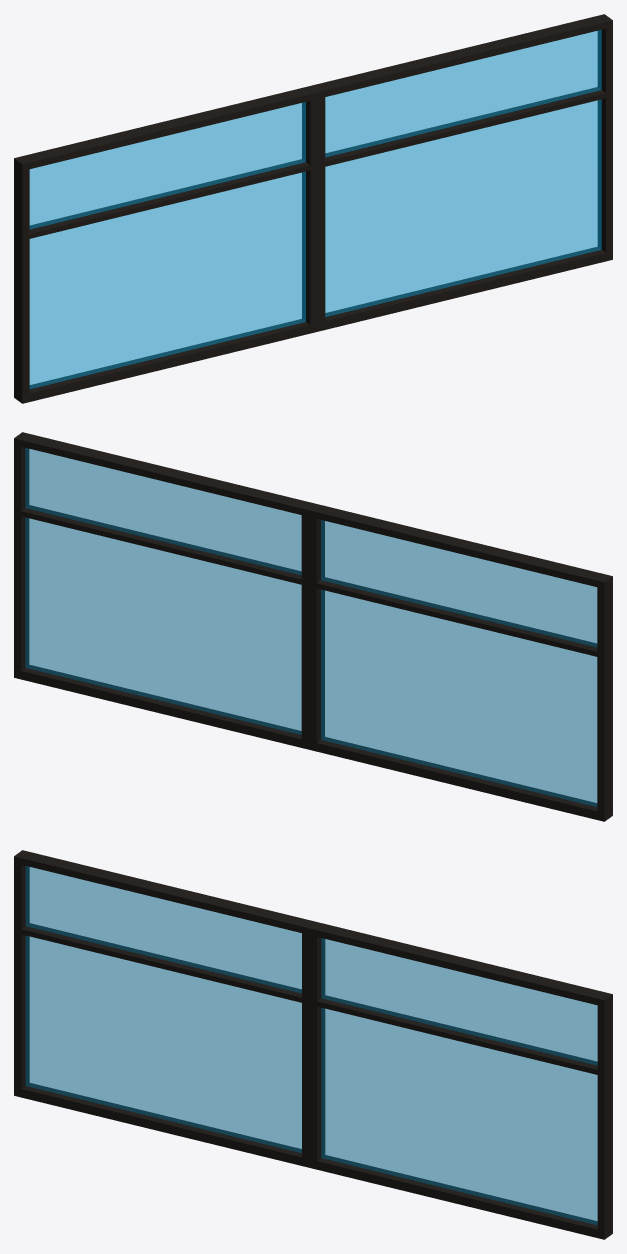
Rendered from ventanal2DeptoA.DAE.
3 renders of one model, top to bottom at view 1: azimuth 30°, elevation 25°; view 2: azimuth 150°, elevation 25°; view 3: azimuth 330°, elevation 25°, orthographic.
Parts seen in each view (by area): view 1: Ventanal2; view 2: Ventanal2; view 3: Ventanal2.
Boxes of the visible parts, bbox=[...] form: Ventanal2: bbox=[14, 14, 612, 403]; Ventanal2: bbox=[14, 432, 612, 821]; Ventanal2: bbox=[14, 850, 612, 1239].
Bounding box in the file's own units: 8 × 3.1 × 0.1981.
